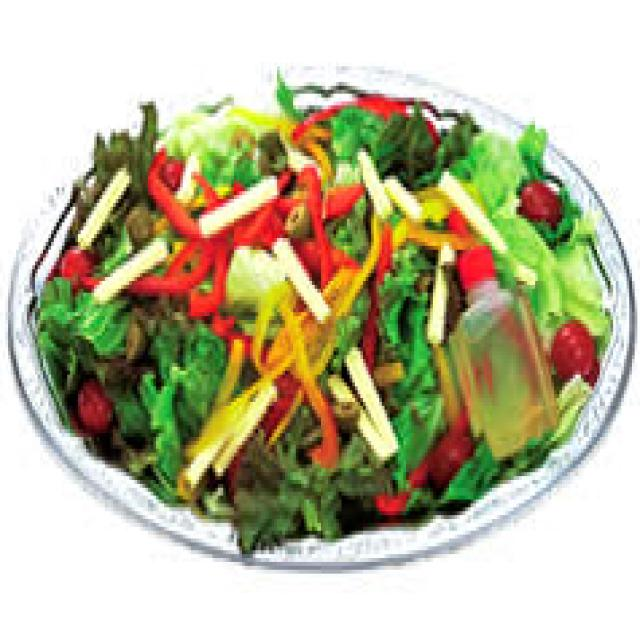蔬菜料理: (2, 54, 640, 569)
